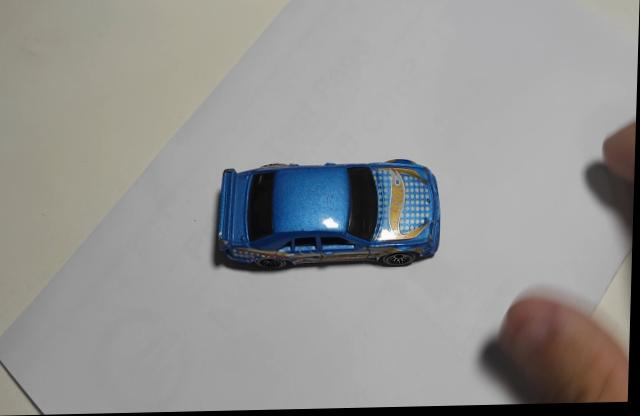04_MERZEDES: (218, 162, 442, 275)
